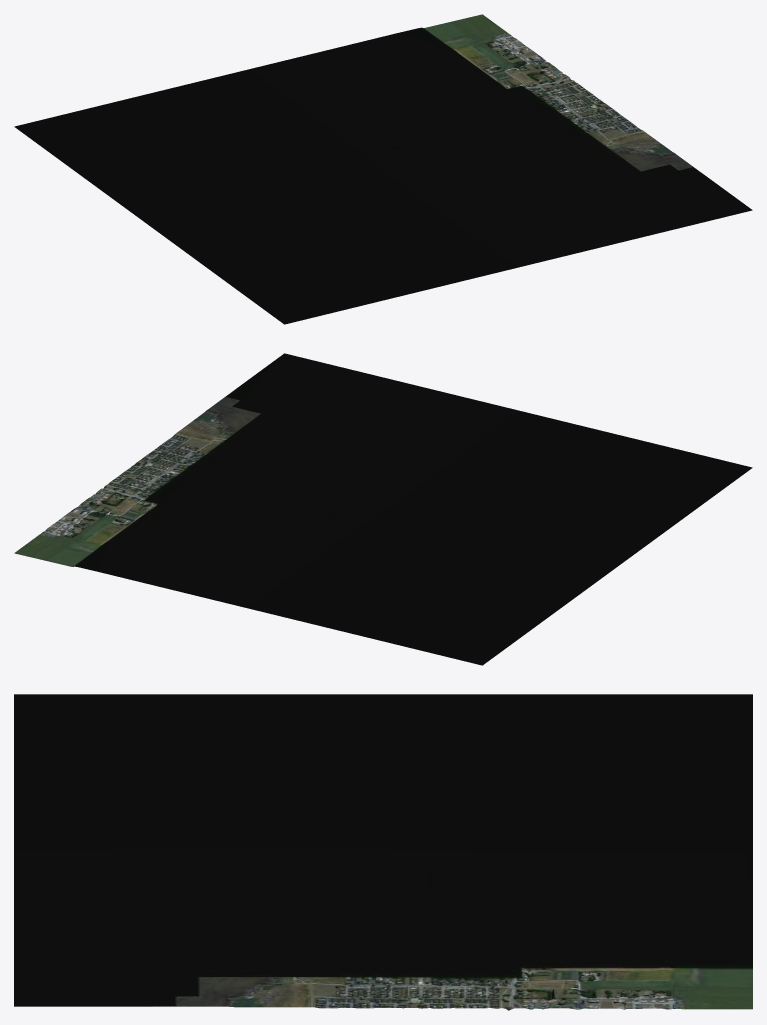
The model's file is map_10_247_422.dae.
The picture shows the model from 3 angles, top to bottom: view 1: azimuth 30°, elevation 25°; view 2: azimuth 150°, elevation 25°; view 3: azimuth 270°, elevation 25°; orthographic projection. The views are drawn at different scales.
Parts seen in each view (by area): view 1: Ter0; view 2: Ter0; view 3: Ter0.
Boxes of the visible parts, x1,y1,x2,y2 form: Ter0: (14, 14, 752, 324); Ter0: (14, 353, 752, 665); Ter0: (14, 694, 752, 1010).
Bounding box in the file's own units: 2044 × 2044 × 18.47.
Materials: 4 (4 with a texture image).
